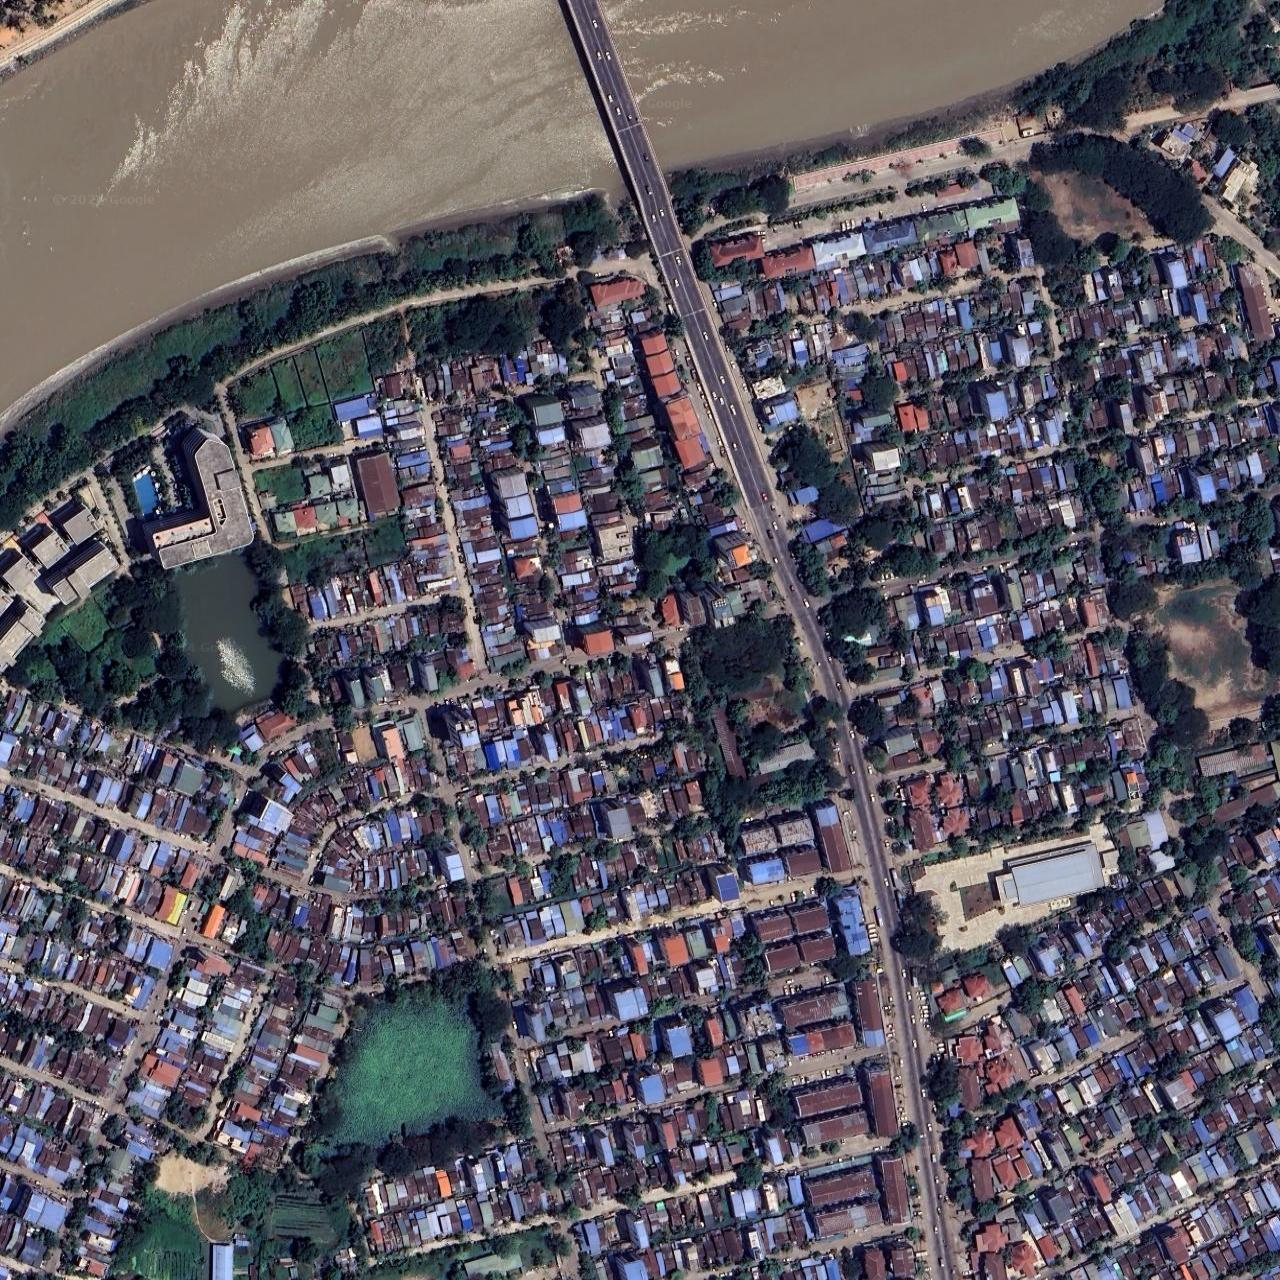greenery: (0, 184, 633, 537), (0, 566, 239, 771), (305, 967, 497, 1178), (1017, 123, 1232, 293), (685, 607, 840, 829), (1037, 0, 1280, 139), (1132, 560, 1280, 764), (114, 1158, 354, 1280)
house: (144, 622, 858, 1160), (0, 248, 783, 727), (837, 531, 1280, 1280), (682, 162, 1280, 613), (352, 877, 948, 1280), (2, 693, 240, 1280)
water: (594, 1, 1160, 173), (168, 556, 295, 714)
